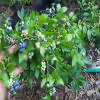Blueberry leaf: (16, 68, 37, 92), (42, 14, 58, 43), (48, 69, 69, 91), (70, 74, 89, 95), (27, 19, 41, 39), (73, 28, 86, 45), (79, 52, 92, 67), (75, 56, 88, 70), (38, 75, 49, 91), (57, 1, 68, 16), (0, 70, 8, 88), (62, 33, 76, 43), (71, 54, 78, 69), (86, 27, 92, 41), (8, 64, 15, 73)
